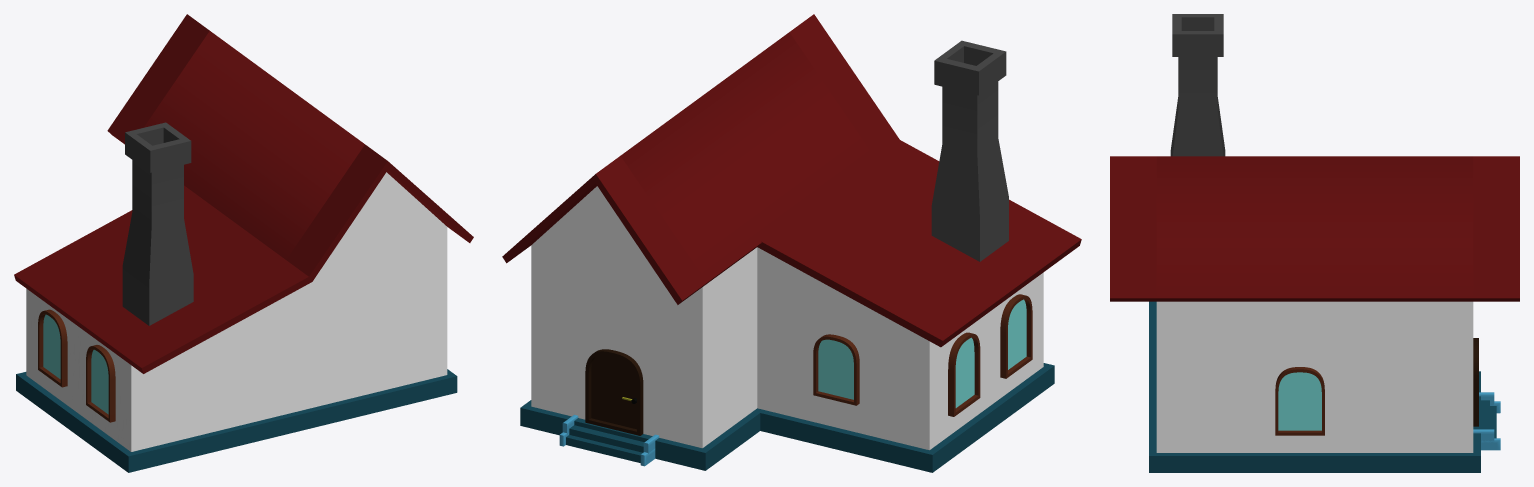
The model's file is dom3.fbx.
The picture shows the model from 3 angles, left to right: view 1: azimuth 30°, elevation 25°; view 2: azimuth 150°, elevation 25°; view 3: azimuth 270°, elevation 25°; orthographic projection. The views are drawn at different scales.
Parts seen in each view (by area): view 1: dom 004, dom 4 028, dom 4 019, dom 4 020; view 2: dom 004, dom 4 028, dom 4 022, dom 4 021, dom 4 019, dom 4 020, dom 4 025, dom 4 027; view 3: dom 004, dom 4 028, dom 4 029, dom 4 025, dom 4 022, dom 4 027.
Boxes of the visible parts, left/top/right/bottom form: dom 004: left=14, top=14, right=473, bottom=472; dom 4 028: left=122, top=122, right=193, bottom=325; dom 4 019: left=38, top=309, right=67, bottom=387; dom 4 020: left=86, top=345, right=115, bottom=422; dom 004: left=502, top=14, right=1081, bottom=472; dom 4 028: left=931, top=40, right=1008, bottom=261; dom 4 022: left=585, top=349, right=643, bottom=435; dom 4 021: left=813, top=334, right=859, bottom=405; dom 4 019: left=948, top=332, right=980, bottom=416; dom 4 020: left=1000, top=294, right=1032, bottom=378; dom 4 025: left=562, top=414, right=659, bottom=453; dom 4 027: left=559, top=432, right=655, bottom=466; dom 004: left=1110, top=156, right=1519, bottom=472; dom 4 028: left=1170, top=14, right=1225, bottom=156; dom 4 029: left=1275, top=367, right=1324, bottom=435; dom 4 025: left=1473, top=392, right=1494, bottom=444; dom 4 022: left=1473, top=338, right=1478, bottom=426; dom 4 027: left=1481, top=401, right=1500, bottom=450.
Size of the model in its own units: 133 by 116 by 139.
